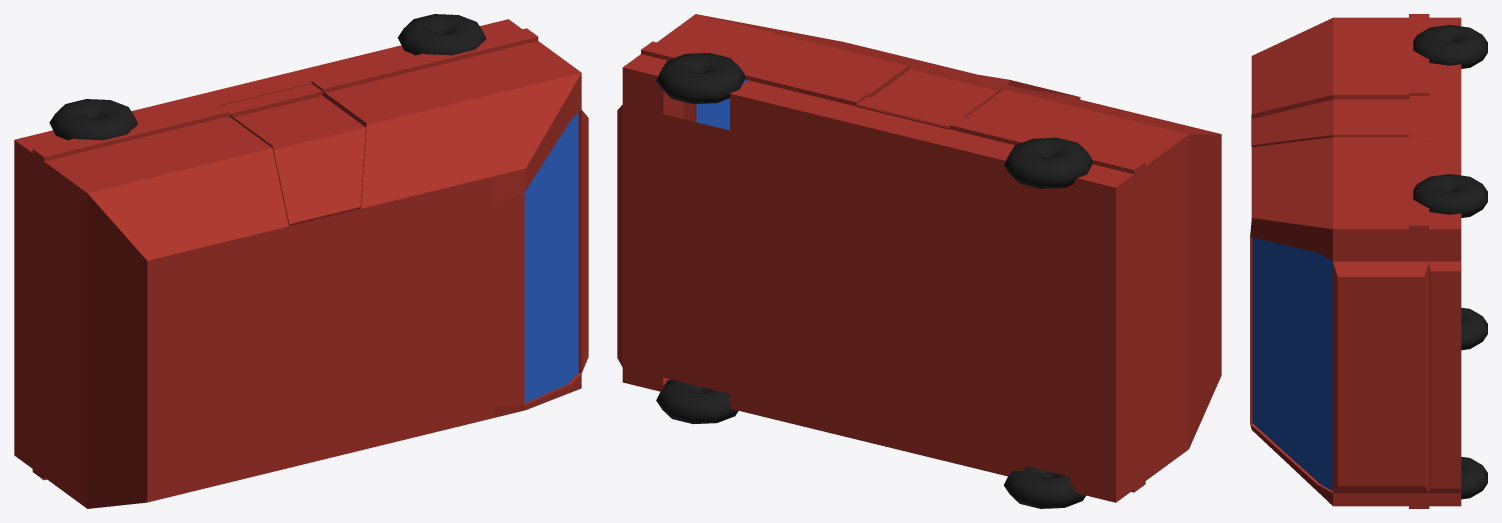
The model's file is BasicCar.fbx.
3 views of the same model, side by side, from view 1: azimuth 30°, elevation 25°; view 2: azimuth 150°, elevation 25°; view 3: azimuth 270°, elevation 25° (orthographic). The views are drawn at different scales.
Parts seen in each view (by area): view 1: Cube, Torus.003, Torus.004; view 2: Cube, Torus.004, Torus.003, Torus.002, Torus.001; view 3: Cube, Torus.003, Torus.004, Torus.001, Torus.002.
Boxes of the visible parts, box(x1,y1,x2,y2) form: Cube: box(14, 19, 588, 508); Torus.003: box(49, 99, 137, 140); Torus.004: box(397, 14, 486, 55); Cube: box(617, 14, 1221, 502); Torus.004: box(656, 53, 745, 104); Torus.003: box(1003, 137, 1092, 188); Torus.002: box(656, 379, 738, 424); Torus.001: box(1003, 466, 1085, 508); Cube: box(1250, 14, 1461, 508); Torus.003: box(1413, 25, 1487, 68); Torus.004: box(1413, 174, 1487, 217); Torus.001: box(1461, 307, 1487, 350); Torus.002: box(1461, 457, 1487, 499).
Size of the model in its own units: 591 by 390 by 276.
